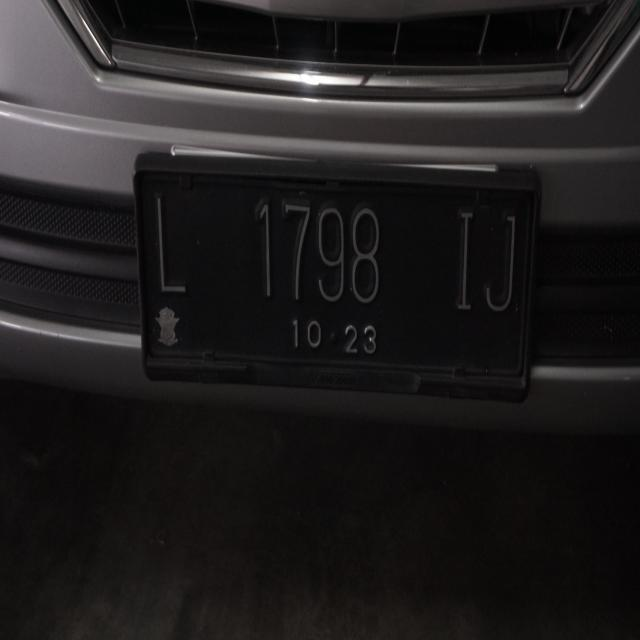1: (252, 189, 278, 309)
7: (278, 192, 314, 306)
8: (346, 198, 388, 310)
9: (312, 192, 350, 306)
I: (443, 196, 481, 322)
J: (482, 200, 520, 326)
L: (148, 176, 194, 312)
